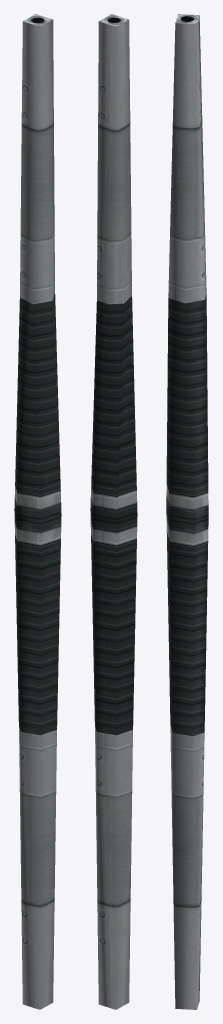
File: wp_mle_lance_lightsaber_s01_l2.fbx
3 views of the same model, side by side, from view 1: azimuth 30°, elevation 25°; view 2: azimuth 210°, elevation 25°; view 3: azimuth 330°, elevation 25° (orthographic).
Parts seen in each view (by area): view 1: mesh_node; view 2: mesh_node; view 3: mesh_node.
Part boxes in pixels (box(x1,y1,x2,y2)): mesh_node: box(14, 14, 61, 1009); mesh_node: box(90, 14, 137, 1009); mesh_node: box(166, 14, 208, 1009).
Bounding box in the file's own units: 0.0359 × 0.7992 × 0.0306.
